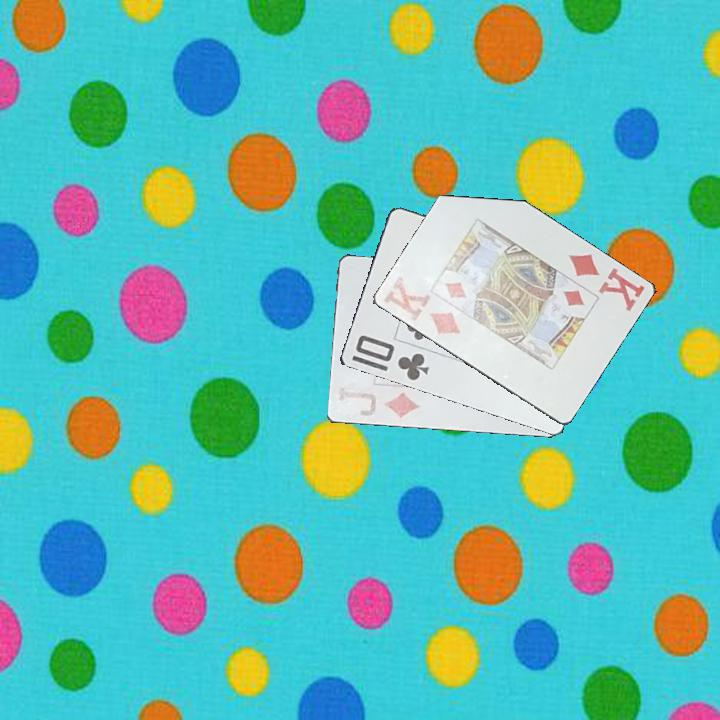Jd: (332, 384, 422, 423)
Kd: (380, 273, 463, 339), (564, 250, 647, 315)
Tc: (351, 332, 432, 384)
